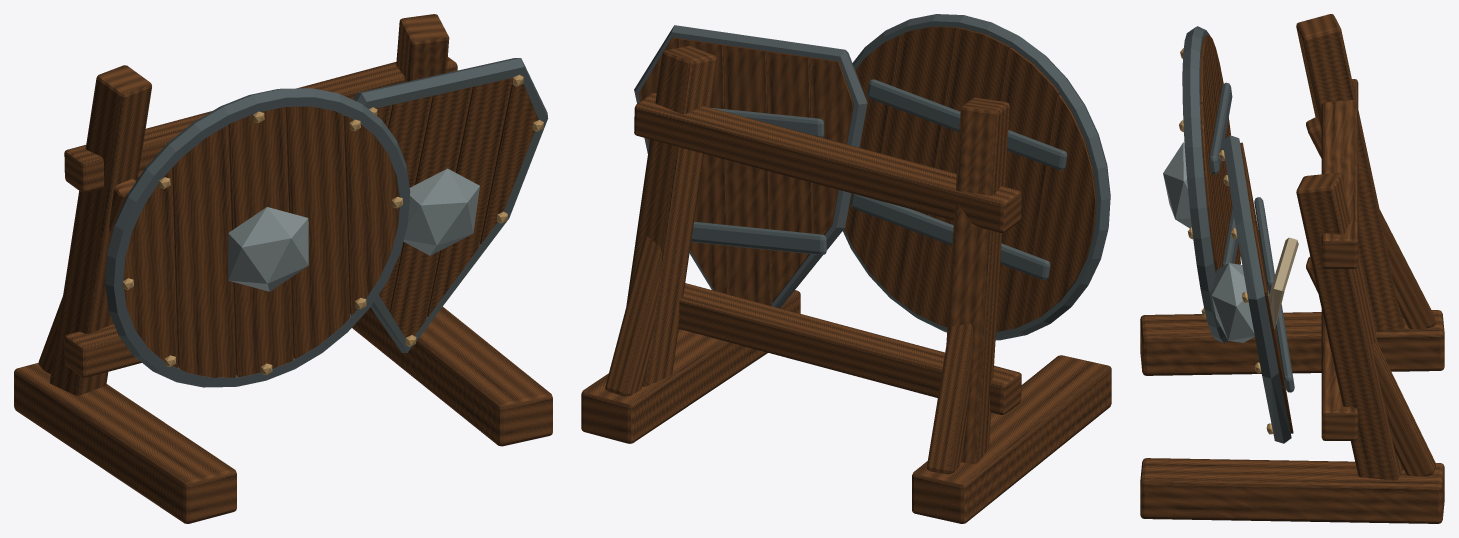
The model's file is shieldRack.glb.
3 renders of one model, left to right at view 1: azimuth 30°, elevation 25°; view 2: azimuth 150°, elevation 25°; view 3: azimuth 270°, elevation 25°, orthographic. The views are drawn at different scales.
Visible parts, largest first — view 1: GEO-shieldRack-Wood-dark, GEO-shieldRack-Wood-warm, GEO-shieldRack-Wood-grey, GEO-shieldRack-iron, GEO-shieldRack-rim, GEO-shieldRack-brass; view 2: GEO-shieldRack-Wood-dark, GEO-shieldRack-Wood-warm, GEO-shieldRack-Wood-grey, GEO-shieldRack-iron; view 3: GEO-shieldRack-Wood-dark, GEO-shieldRack-Wood-grey, GEO-shieldRack-iron, GEO-shieldRack-Wood-warm, GEO-shieldRack-rim, GEO-shieldRack-hemp, GEO-shieldRack-brass.
Part boxes in pixels (x1,y1,x2,y2): GEO-shieldRack-Wood-dark: (14,57,552,523); GEO-shieldRack-Wood-warm: (38,79,538,377); GEO-shieldRack-Wood-grey: (49,14,449,395); GEO-shieldRack-iron: (105,58,548,387); GEO-shieldRack-rim: (228,168,479,291); GEO-shieldRack-brass: (122,74,543,374); GEO-shieldRack-Wood-dark: (581,26,1111,523); GEO-shieldRack-Wood-warm: (605,27,1096,474); GEO-shieldRack-Wood-grey: (626,46,1059,463); GEO-shieldRack-iron: (634,14,1110,340); GEO-shieldRack-Wood-dark: (1140,57,1444,523); GEO-shieldRack-Wood-grey: (1205,14,1404,480); GEO-shieldRack-iron: (1182,26,1294,443); GEO-shieldRack-Wood-warm: (1200,36,1435,476); GEO-shieldRack-rim: (1163,142,1254,342); GEO-shieldRack-hemp: (1267,237,1298,328); GEO-shieldRack-brass: (1179,48,1273,434).
Bounding box in the file's own units: 1.36 × 1.09 × 0.8348.
Materials: 7 (3 with a texture image).
